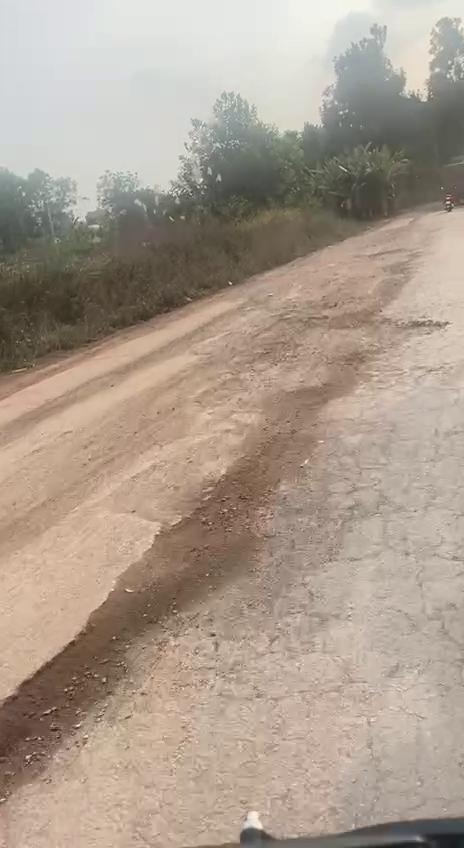pothole: (0, 500, 265, 802), (194, 357, 380, 526), (394, 310, 452, 340)
